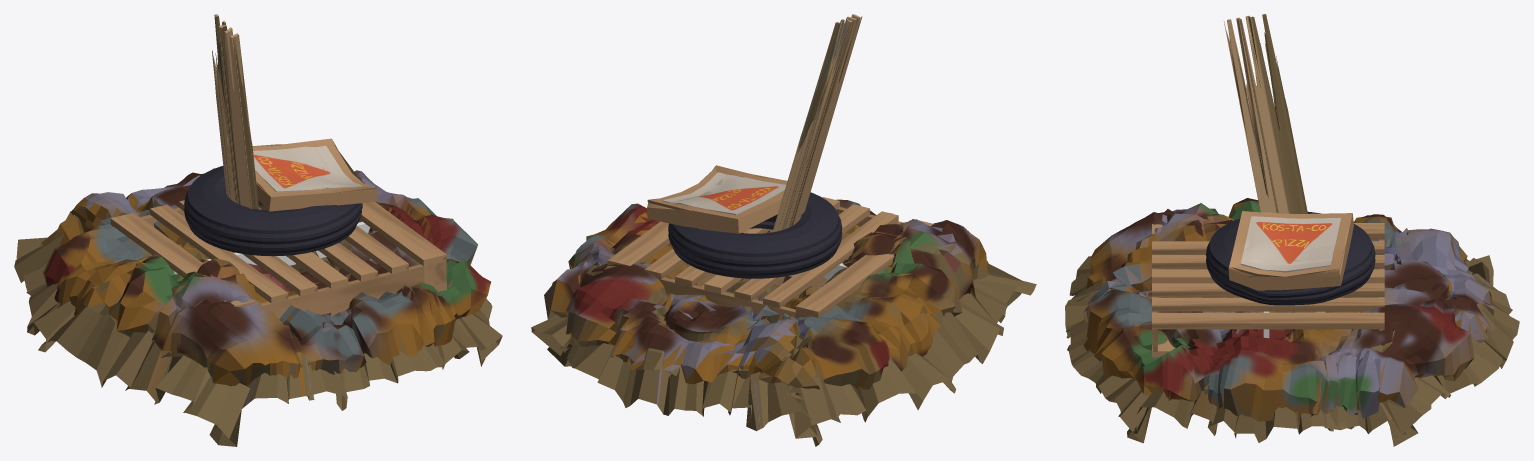
Rendered from Throne.fbx.
3 views of the same model, side by side, from view 1: azimuth 30°, elevation 25°; view 2: azimuth 150°, elevation 25°; view 3: azimuth 270°, elevation 25° (orthographic). The views are drawn at different scales.
Visible parts, largest first — view 1: Plane, Tire, PizzaSeat, Cylinder, Cube.017, Cube, Cube.006, Cube.003, Cube.001, Cube.004, Cube.005, Cube.002 (+1 smaller); view 2: Plane, Tire, PizzaSeat, Cylinder, Cube.006, Cube, Cube.003, Cube.016, Cube.001, Cube.004, Cube.005, Cube.002; view 3: Plane, PizzaSeat, Cylinder, Tire, Cube.003, Cube.004, Cube.005, Cube.002, Cube, Cube.001.
Part boxes in pixels (x1,y1,x2,y2): Plane: (14, 168, 502, 446); Tire: (184, 166, 362, 256); PizzaSeat: (252, 138, 377, 211); Cylinder: (212, 14, 258, 209); Cube.017: (260, 264, 424, 318); Cube: (150, 204, 288, 303); Cube.006: (110, 212, 255, 306); Cube.003: (360, 202, 446, 266); Cube.001: (179, 200, 317, 296); Cube.004: (344, 225, 408, 273); Cube.005: (259, 205, 377, 281); Cube.002: (286, 252, 348, 288); Plane: (531, 199, 1036, 446); Tire: (668, 192, 842, 278); PizzaSeat: (647, 165, 787, 233); Cylinder: (772, 14, 862, 285); Cube.006: (795, 219, 934, 317); Cube: (763, 211, 898, 308); Cube.003: (607, 221, 669, 266); Cube.016: (658, 277, 795, 320); Cube.001: (734, 204, 869, 301); Cube.004: (644, 249, 684, 279); Cube.005: (675, 228, 769, 286); Cube.002: (704, 197, 839, 293); Plane: (1065, 198, 1519, 446); PizzaSeat: (1228, 211, 1353, 290); Cylinder: (1224, 14, 1307, 213); Tire: (1206, 211, 1375, 305); Cube.003: (1152, 312, 1384, 329); Cube.004: (1152, 297, 1384, 311); Cube.005: (1152, 283, 1384, 297); Cube.002: (1152, 269, 1384, 283); Cube: (1152, 241, 1384, 254); Cube.001: (1152, 255, 1384, 268).
Bounding box in the file's own units: 671 × 552 × 681.
Materials: 7 (5 with a texture image).
